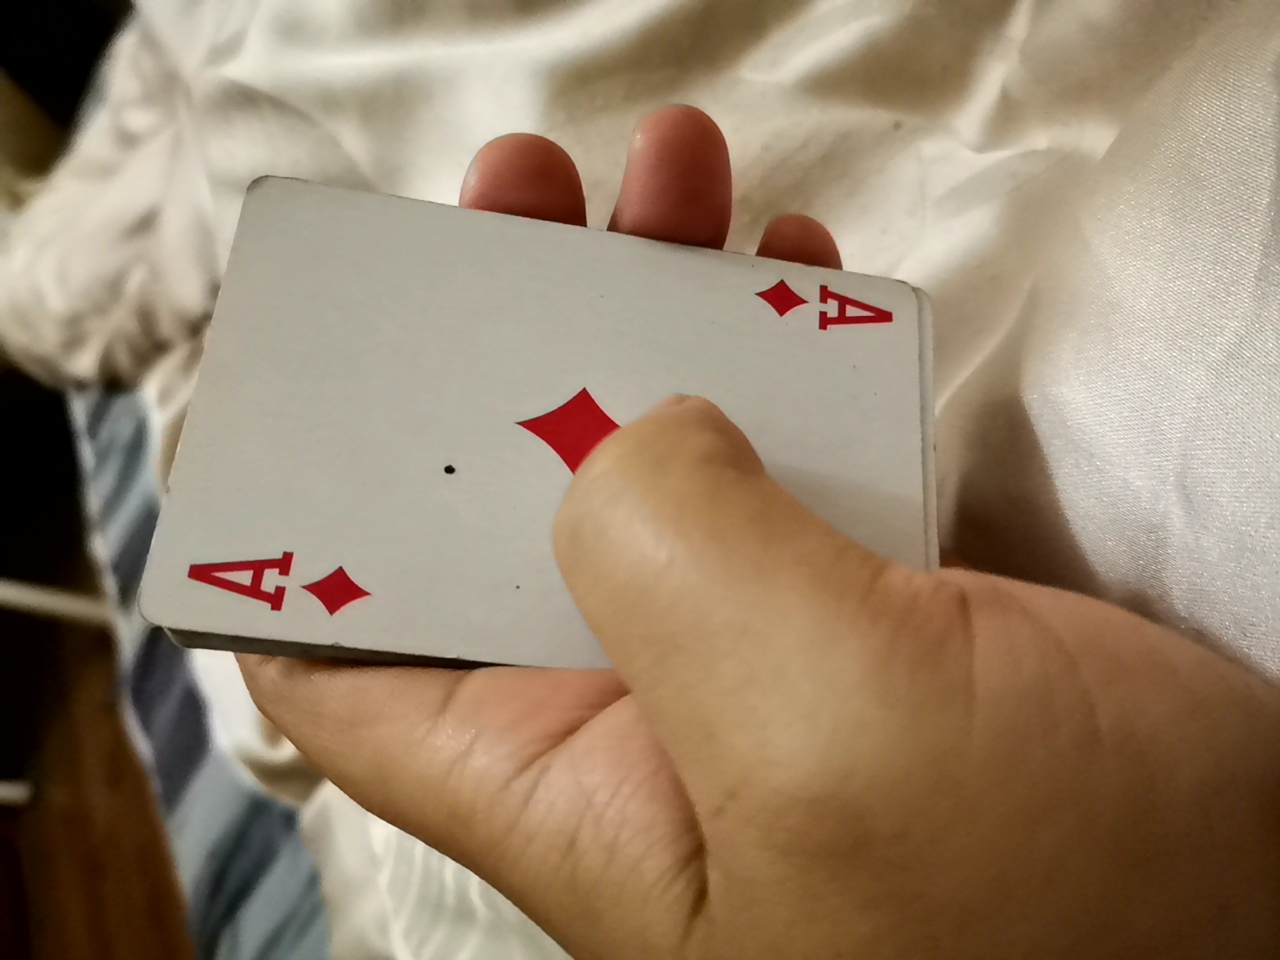fk a: (102, 122, 997, 692)
